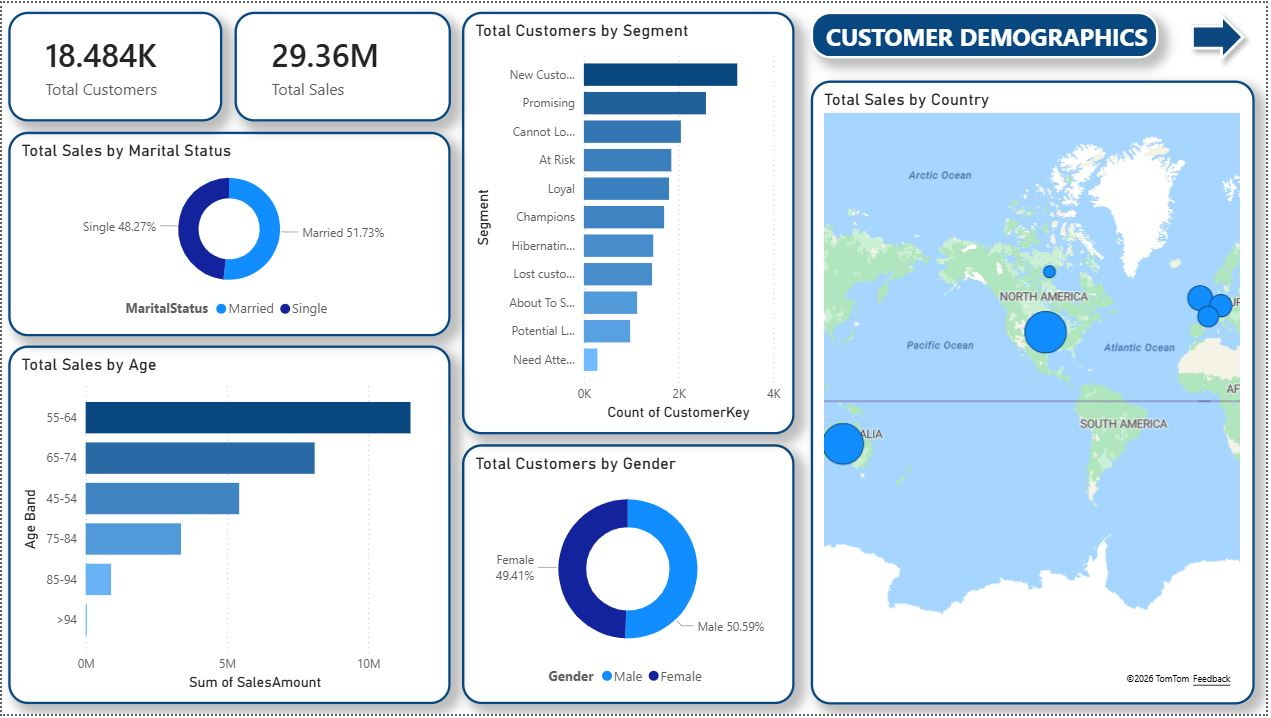

Layout of this report page (visuals, bound fields, positions):
{"tool":"powerbi","page":{"name":"Dashboard 1","canvas":[1280,720],"ordinal":0},"visuals":[{"type":"donutChart","title":"Total Customers by Gender","fields":{"Y":["CountNonNull(DimCustomer.CustomerKey)"],"Category":["DimCustomer.Gender"]},"box":[465.8,446.8,336.7,263.3],"z":0},{"type":"cardVisual","fields":{"Data":["Count(DimCustomer.CustomerKey)"]},"box":[6.3,8.9,216.5,111.4],"z":1000},{"type":"cardVisual","fields":{"Data":["Sum(FactInternetSales.SalesAmount)"]},"box":[235.4,8.9,219,111.4],"z":2000},{"type":"donutChart","title":"Total Sales by Marital Status","fields":{"Y":["Sum(FactInternetSales.SalesAmount)"],"Category":["DimCustomer.MaritalStatus"]},"box":[6.3,130.4,448.1,207.6],"z":3000},{"type":"clusteredBarChart","title":"Total Sales by Age","fields":{"Y":["Sum(FactInternetSales.SalesAmount)"],"Category":["DimCustomer.Age Band"]},"box":[6.3,346.8,448.1,363.3],"z":4000},{"type":"azureMap","title":"Total Sales by Country","fields":{"Size":["Sum(FactInternetSales.SalesAmount)"],"Category":["DimGeography.Country"]},"box":[819,78.5,449.4,631.6],"z":5000},{"type":"clusteredBarChart","title":"Total Customers by Segment","fields":{"Y":["CountNonNull(RFM Table.CustomerKey)"],"Category":["Segments Table.Segment"]},"box":[465.8,8.9,336.7,427.8],"z":6000},{"type":"textbox","title":"CUSTOMER DEMOGRAPHICS","box":[819,8.9,351.9,46.8],"z":7000},{"type":"pageNavigator","box":[1194.9,0,73.4,69.6],"z":8000}]}

Visuals, with their boxes in screenshot pixels (x1, y1, x2, y2), scaled from the page's 1280x720 canvas onto the 1271x718 screenshot:
"Total Customers by Gender" donutChart: rect(463, 446, 797, 708)
cardVisual - Count(DimCustomer.CustomerKey): rect(6, 9, 221, 120)
cardVisual - Sum(FactInternetSales.SalesAmount): rect(234, 9, 451, 120)
"Total Sales by Marital Status" donutChart: rect(6, 130, 451, 337)
"Total Sales by Age" clusteredBarChart: rect(6, 346, 451, 708)
"Total Sales by Country" azureMap: rect(813, 78, 1259, 708)
"Total Customers by Segment" clusteredBarChart: rect(463, 9, 797, 435)
"CUSTOMER DEMOGRAPHICS" textbox: rect(813, 9, 1163, 56)
pageNavigator: rect(1186, 0, 1259, 69)
